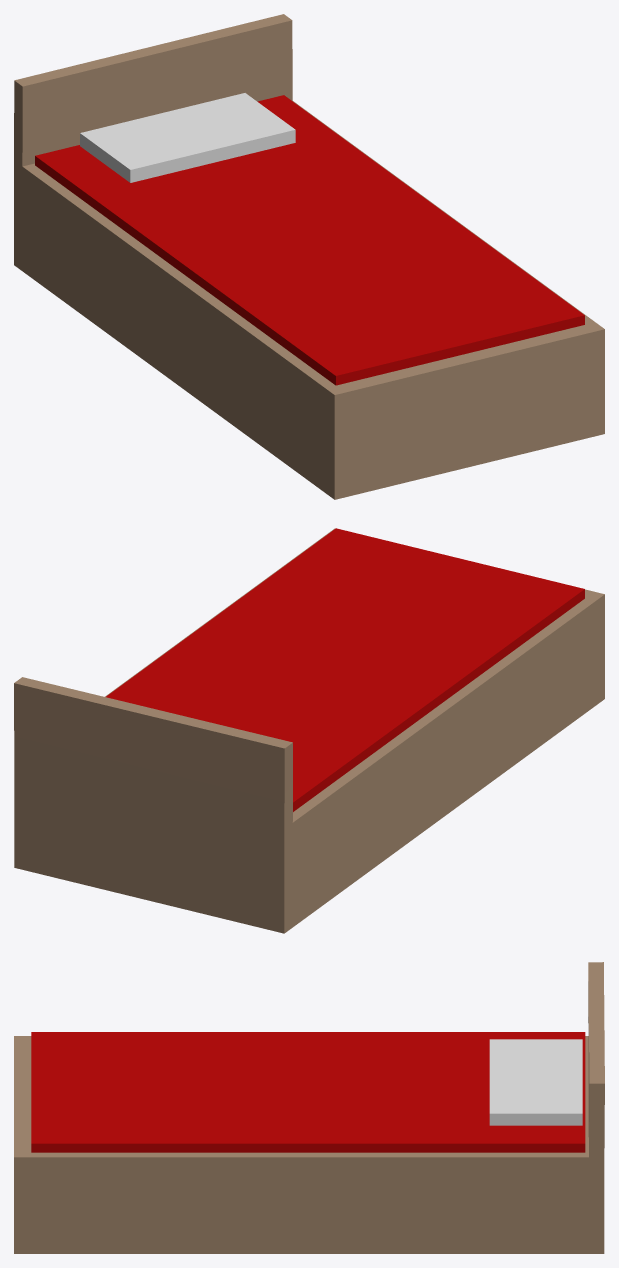
Rendered from bed.fbx.
3 views of the same model, one above another, from view 1: azimuth 30°, elevation 25°; view 2: azimuth 150°, elevation 25°; view 3: azimuth 270°, elevation 25° (orthographic). The views are drawn at different scales.
Visible parts, largest first — view 1: pCube9; view 2: pCube9; view 3: pCube9.
Part boxes in pixels (x1,y1,x2,y2): pCube9: [14, 14, 604, 499]; pCube9: [14, 528, 604, 933]; pCube9: [14, 962, 604, 1253].
Bounding box in the file's own units: 1.64 × 1.07 × 3.37.
